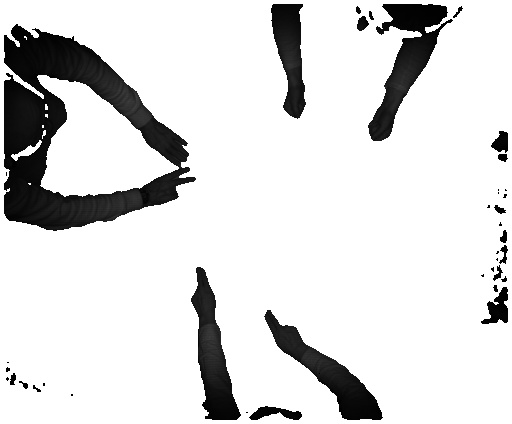fist: (368, 109, 398, 143), (280, 91, 311, 119)
hand: (184, 264, 222, 323), (264, 304, 306, 356), (146, 122, 191, 168), (146, 168, 199, 207)
